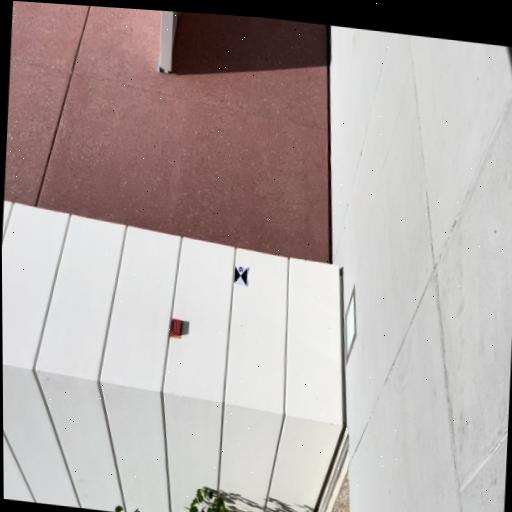target9: (234, 265, 248, 286)
